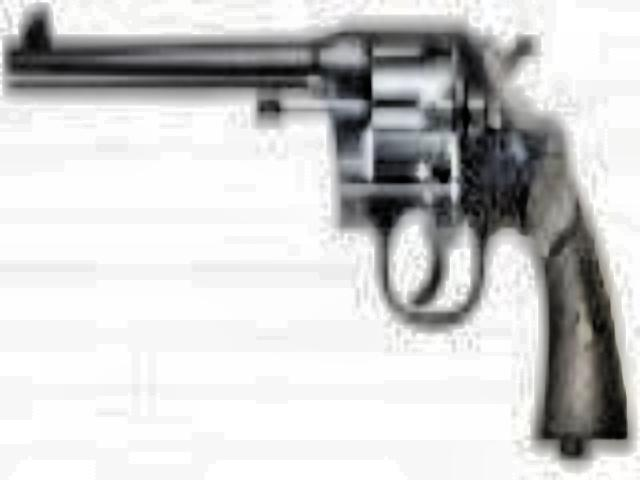pistol: (0, 4, 628, 444)
